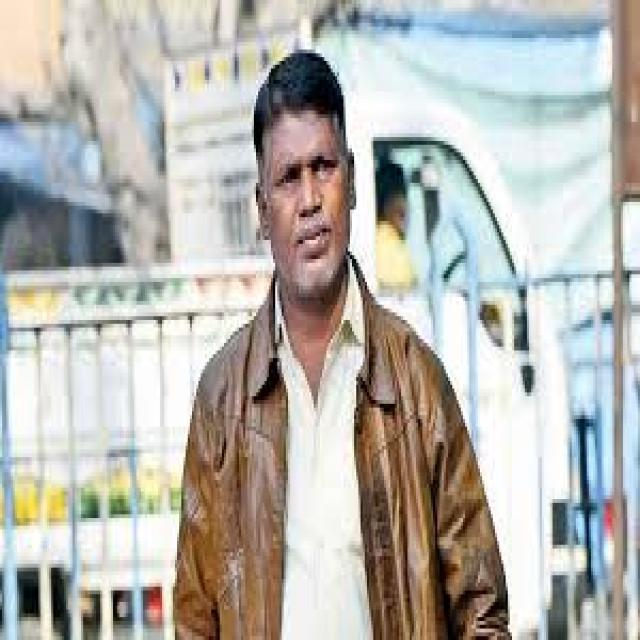person-without-mask: (164, 48, 541, 640)
